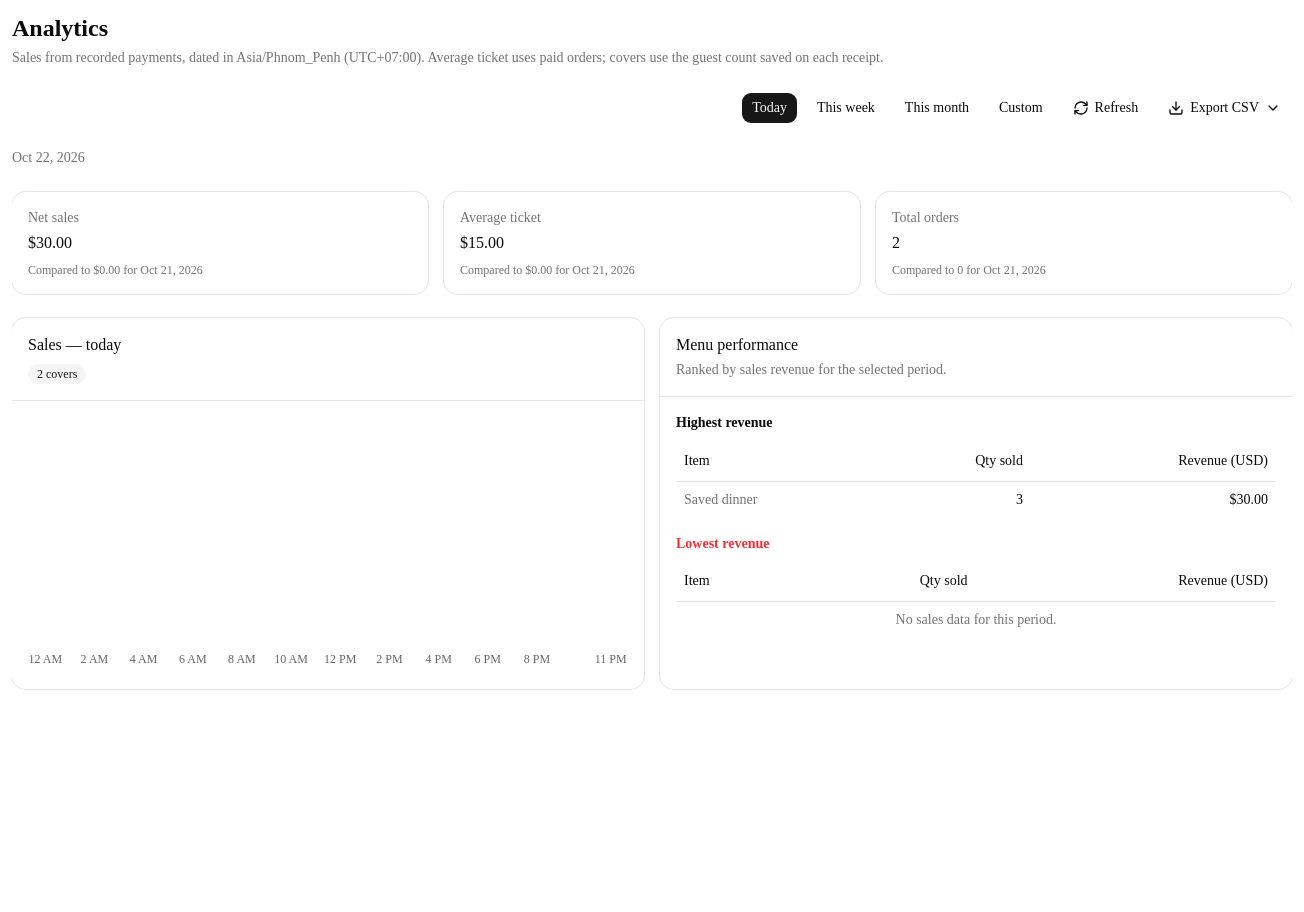
ignores responses from an older selected period
This screenshot has width=1304, height=912.
expect the text "Saved dinner" is shown: met, box [676,481,883,518]
What coordinates should you click on to do the following:
click the button "This week"
I would click on:
 (846, 108)
Its box is [806,92,886,124].
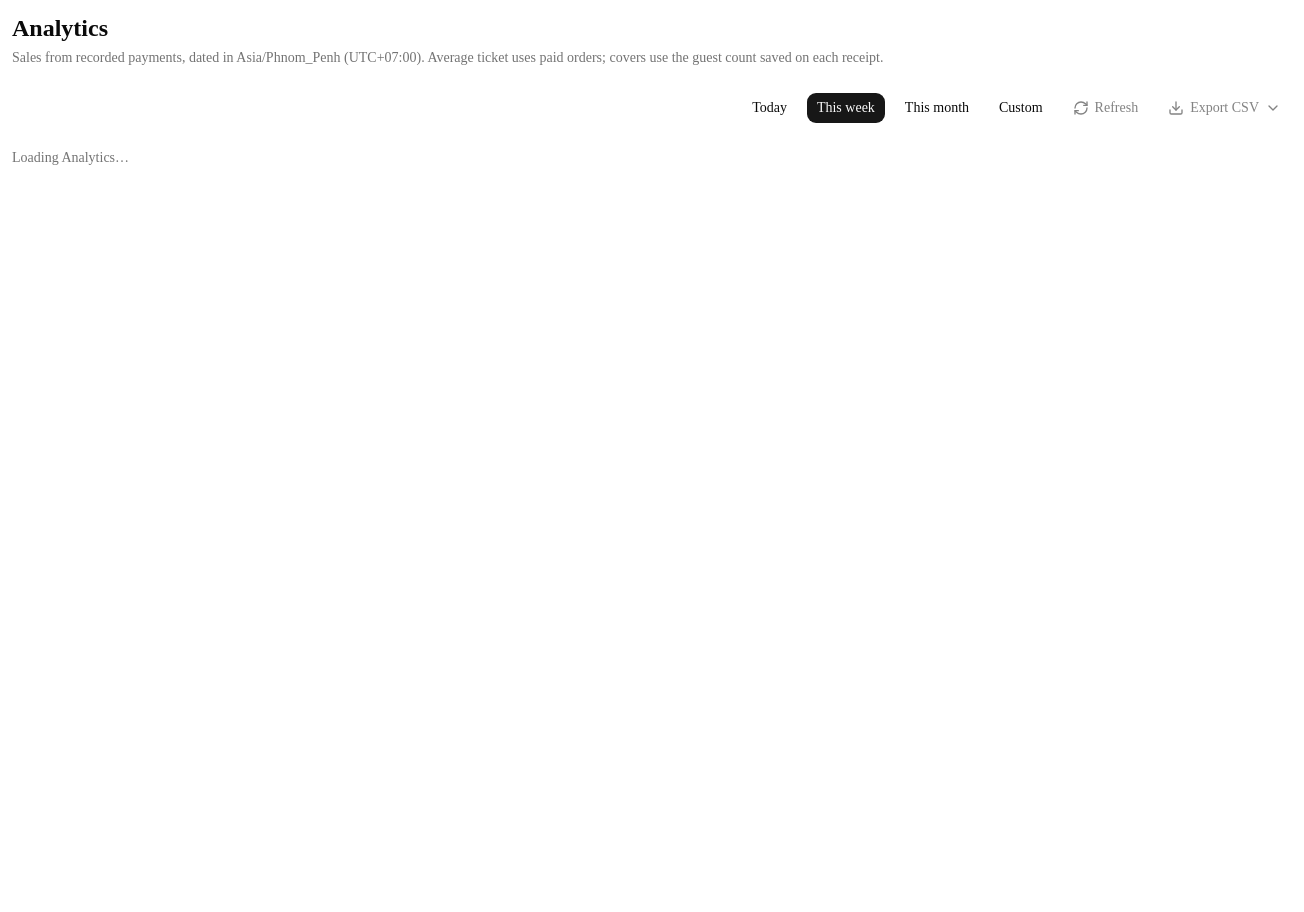
expect the button "Export CSV" is disabled: met, box [1157,92,1292,124]
What coordinates should you click on to do the following:
click the button "This month"
I would click on:
 (937, 108)
Its box is [894,92,980,124].
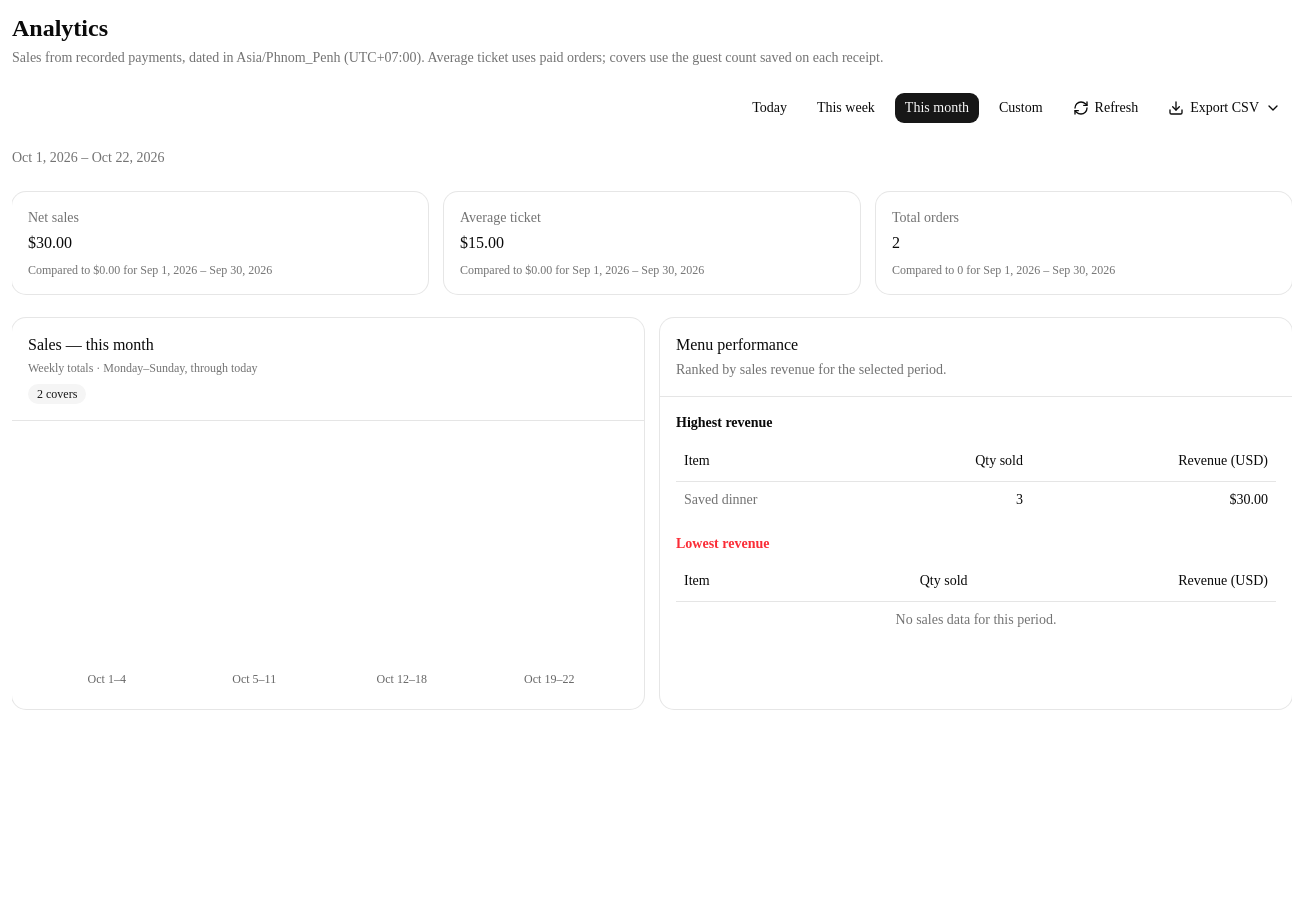
expect the text "Saved dinner" is shown: met, box [676,481,883,518]
expect the text "Oct 1, 2026 – Oct 22, 2026" is shown: met, box [12,150,164,165]
